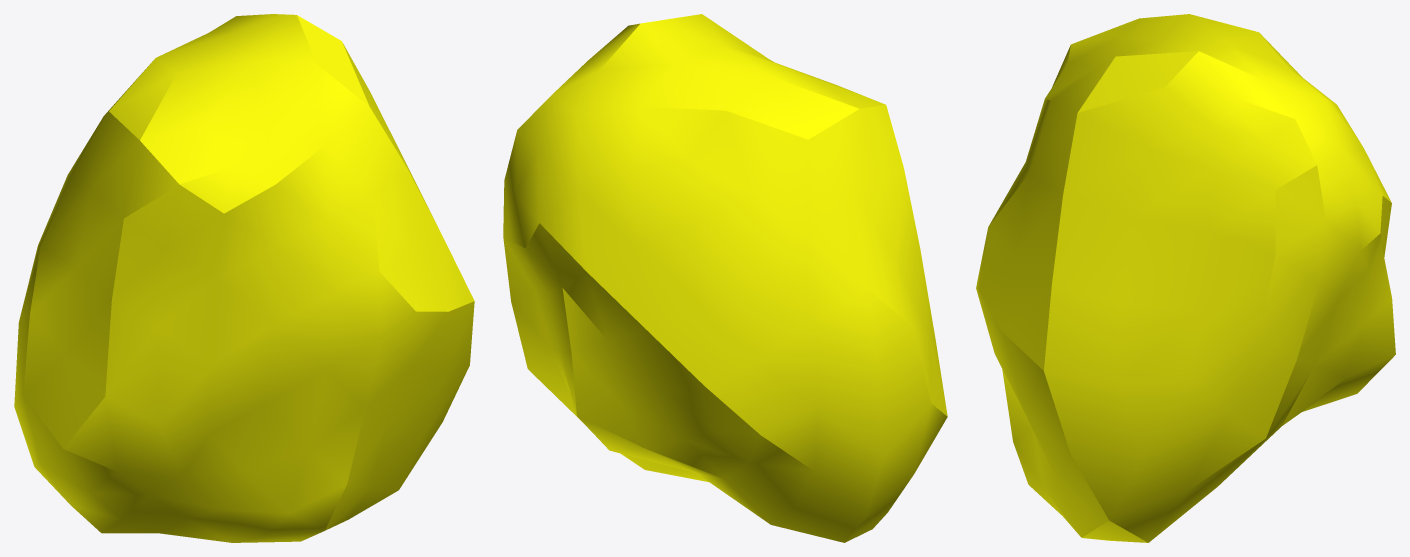
File: kaykit-rock-3-p-color-1.glb
3 renders of one model, left to right at view 1: azimuth 30°, elevation 25°; view 2: azimuth 150°, elevation 25°; view 3: azimuth 270°, elevation 25°, orthographic. The views are drawn at different scales.
Visible parts, largest first — view 1: Rock_3_P_Color1; view 2: Rock_3_P_Color1; view 3: Rock_3_P_Color1.
Boxes of the visible parts, x1,y1,x2,y2 form: Rock_3_P_Color1: (14, 14, 474, 542); Rock_3_P_Color1: (503, 14, 947, 542); Rock_3_P_Color1: (976, 14, 1395, 542).
Bounding box in the file's own units: 3.29 × 3.68 × 2.87.
